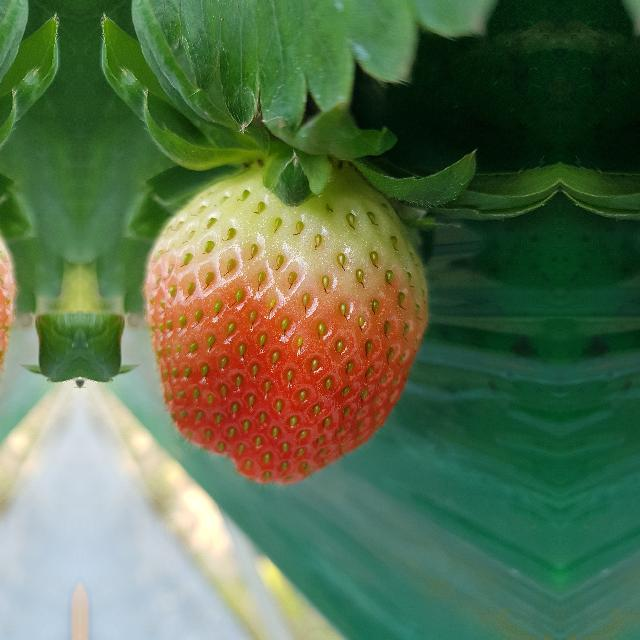Health_75: (141, 152, 429, 486)
